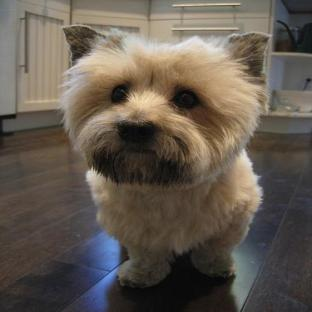Animal: (61, 25, 270, 288)
